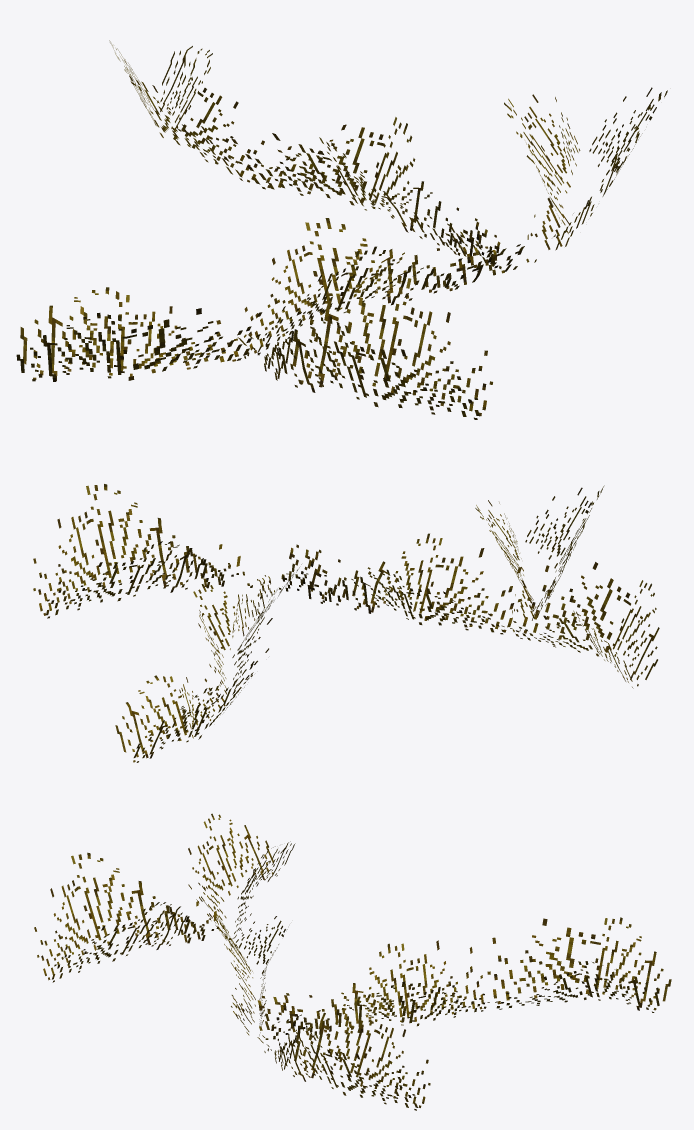
File: M6_Grasses1.glb
3 views of the same model, one above another, from view 1: azimuth 30°, elevation 25°; view 2: azimuth 150°, elevation 25°; view 3: azimuth 270°, elevation 25° (orthographic). The views are drawn at different scales.
Parts seen in each view (by area): view 1: M6_GRASSES1; view 2: M6_GRASSES1; view 3: M6_GRASSES1.
Part boxes in pixels (x1=…): M6_GRASSES1: x1=16, y1=40, x2=667, y2=419; M6_GRASSES1: x1=33, y1=484, x2=659, y2=762; M6_GRASSES1: x1=34, y1=813, x2=671, y2=1110.
Size of the model in its own units: 5.21 by 0.878 by 5.47.
Materials: 1 (1 with a texture image).
